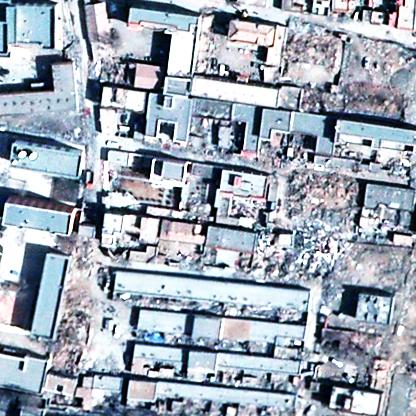collapsed: (236, 221, 353, 285), (301, 80, 415, 120), (51, 285, 98, 377), (285, 168, 364, 220), (284, 16, 344, 75), (56, 231, 100, 279), (91, 46, 137, 91), (320, 327, 384, 359), (185, 194, 216, 226), (369, 359, 395, 396)
